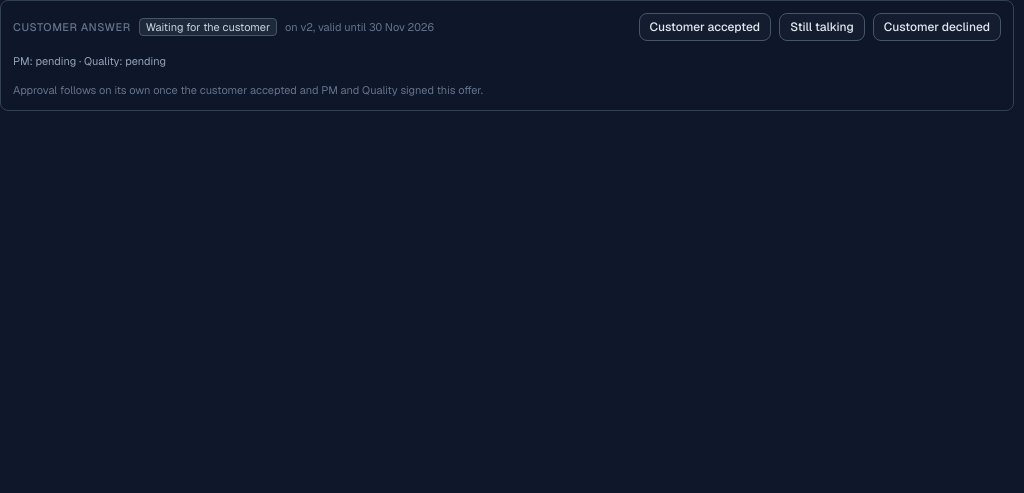
CustomerDecision §7 (COMMERCIAL_V2) › a lower total than the last version sent asks why (price diff)
Later steps or results of the test are not shown.
Click the button "Customer accepted": (705, 27) [639, 13, 771, 41]
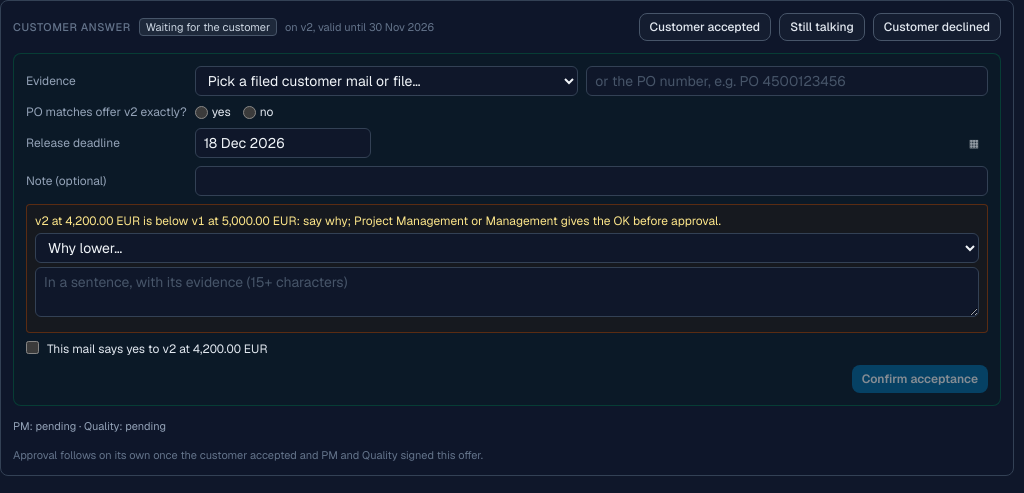
Result: the element with test id "accept-drop" shows "is below v1" at [35, 213, 721, 229]
In the field with test id "answer-ref": (787, 81) [586, 66, 988, 96], type "PO 4500123456"
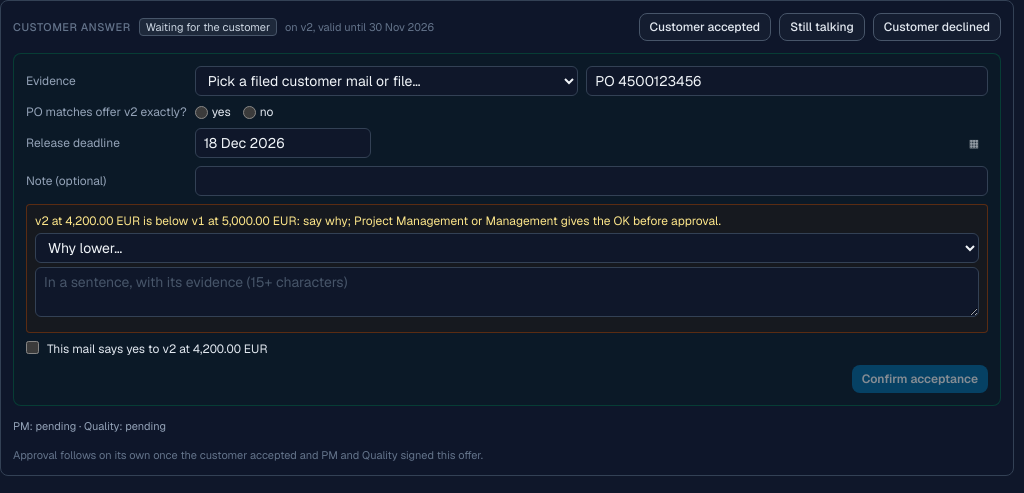
Click the radio button with test id "po-match-yes": (201, 112) [195, 106, 208, 118]
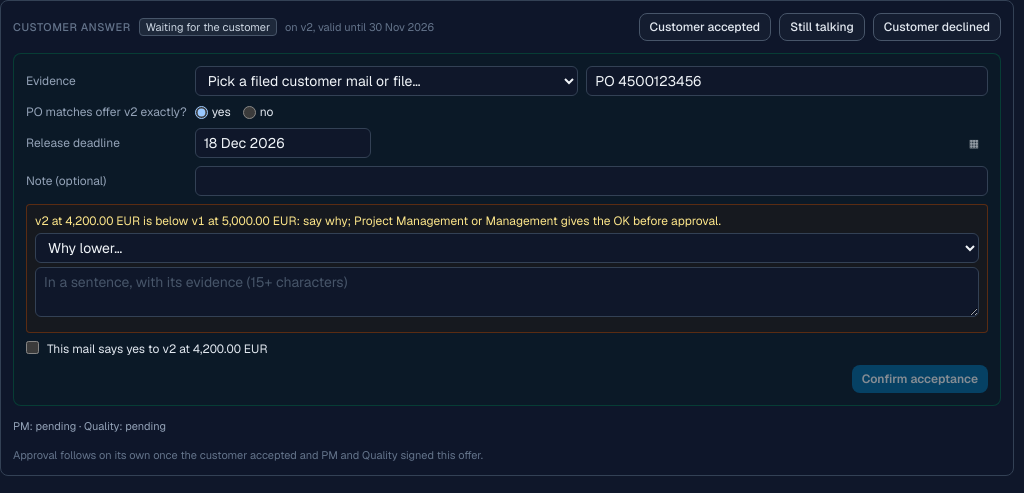
Click the checkbox with test id "accept-total": (32, 348) [26, 341, 39, 354]
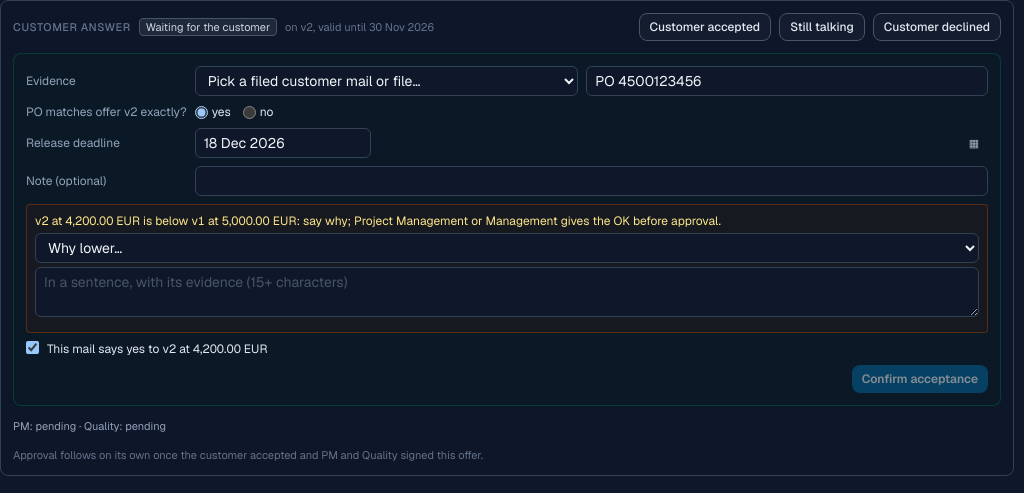
Result: the button with test id "accept-confirm" is disabled at [852, 365, 988, 393]
